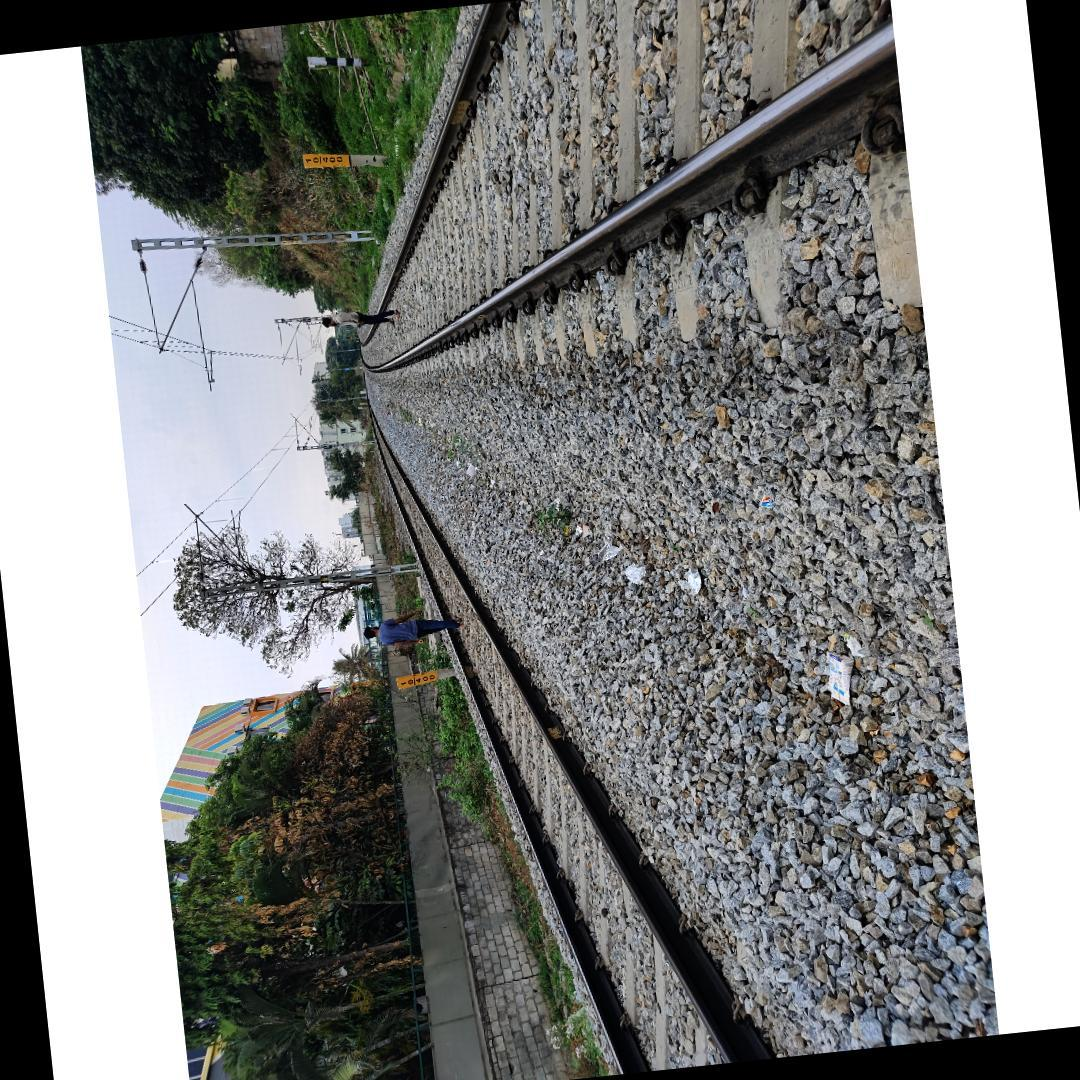standing: (361, 605, 464, 651), (321, 304, 401, 334)
track: (361, 370, 797, 1075), (354, 0, 905, 379)
